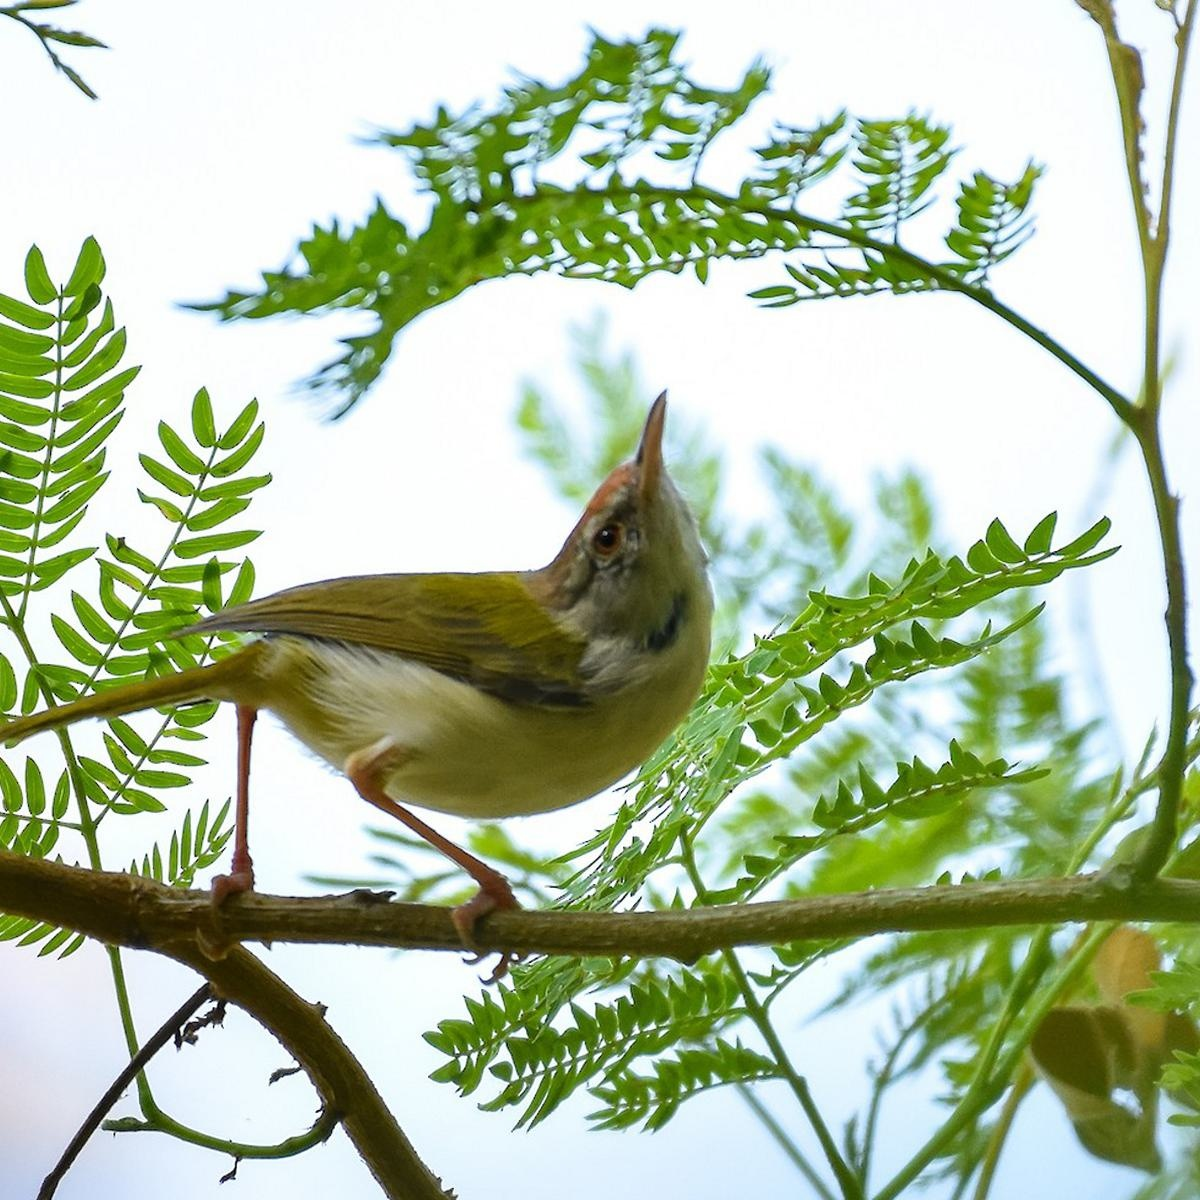tailorbird: (59, 366, 777, 864)
